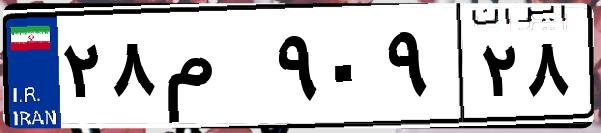0: (330, 28, 385, 110)
2: (57, 26, 110, 100), (475, 38, 525, 113)
8: (525, 38, 570, 115), (110, 28, 158, 98)
9: (270, 28, 330, 110), (385, 28, 445, 110)
م: (158, 20, 270, 120)
